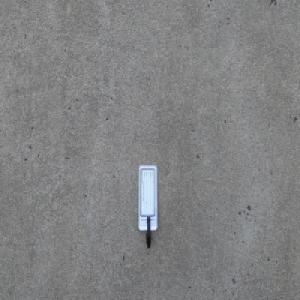LuggageTag: (137, 163, 158, 249)
